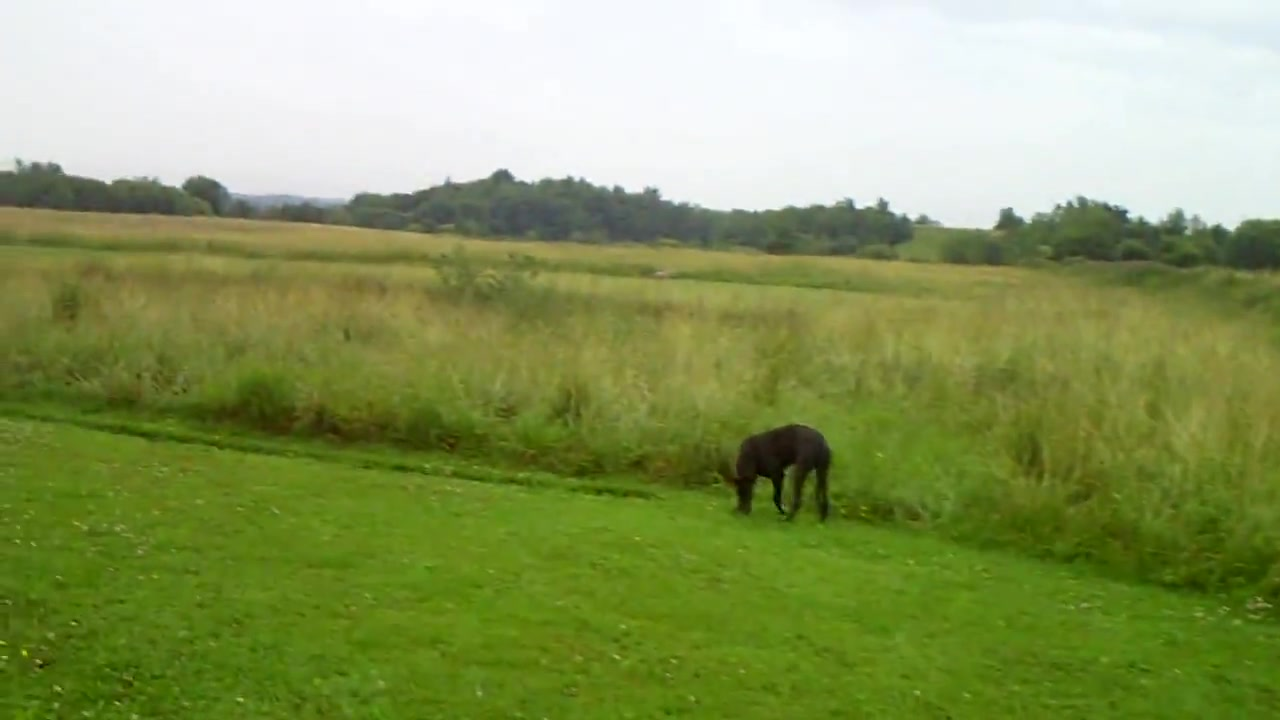dog: (720, 422, 836, 520)
